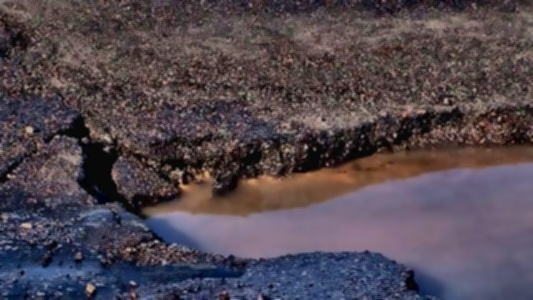pothole: (66, 100, 533, 299)
